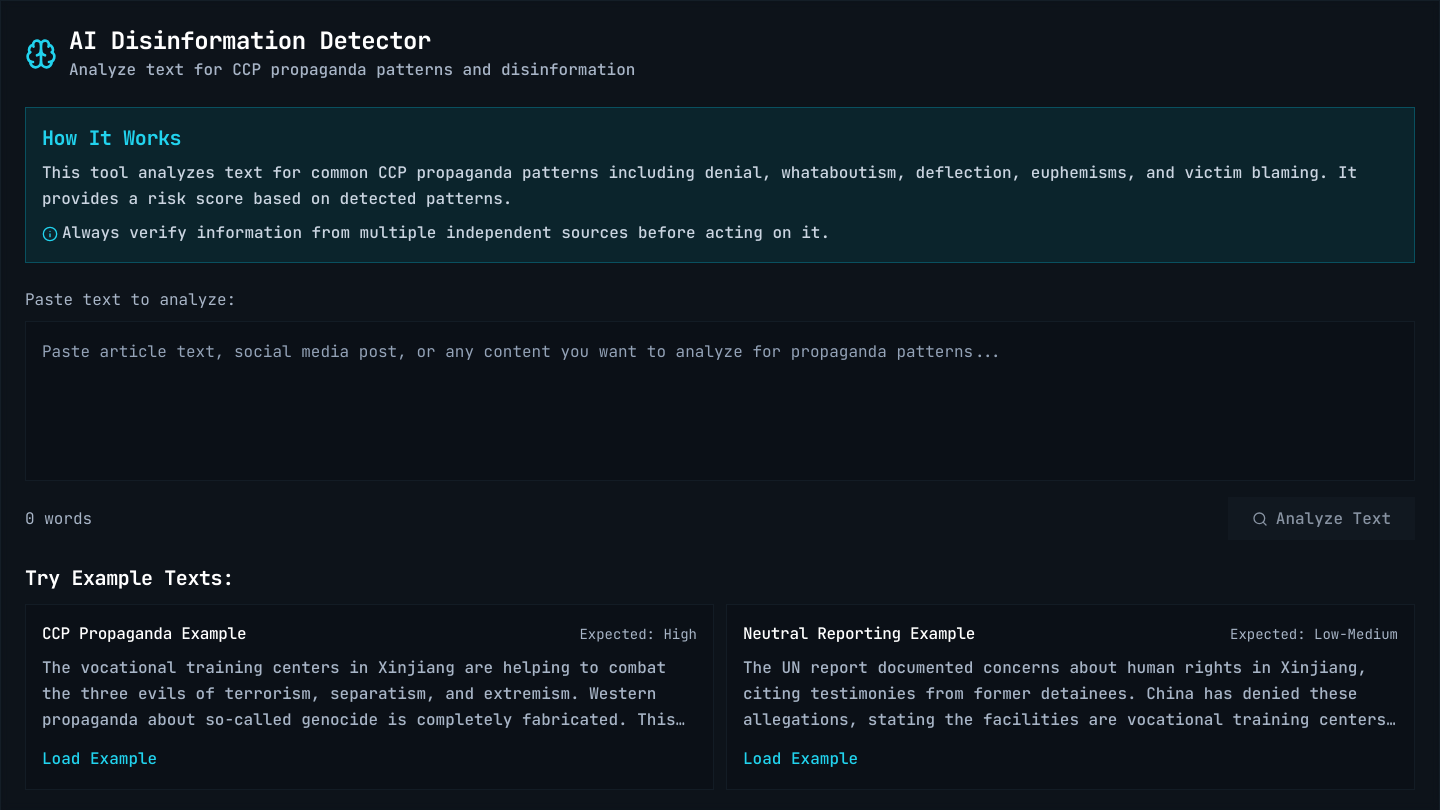
Test: AIDisinfoDetector › enables Analyze Text button when text is entered
Replace the text in the text box named "Paste text to analyze:" with "some text to analyze": (720, 401) [25,321,1415,481]
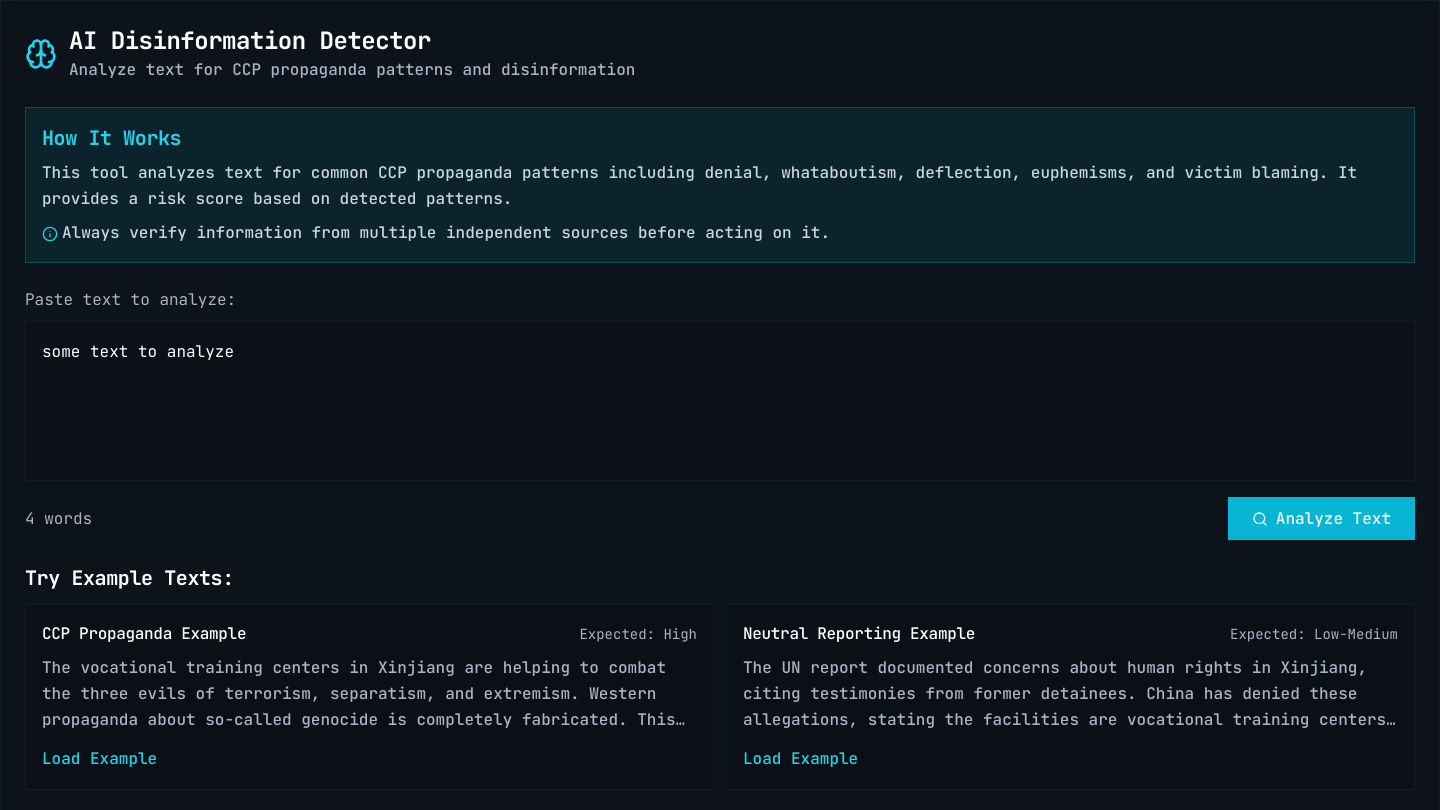
Expected: the button "Analyze Text" is enabled, [1228,497,1415,540]
